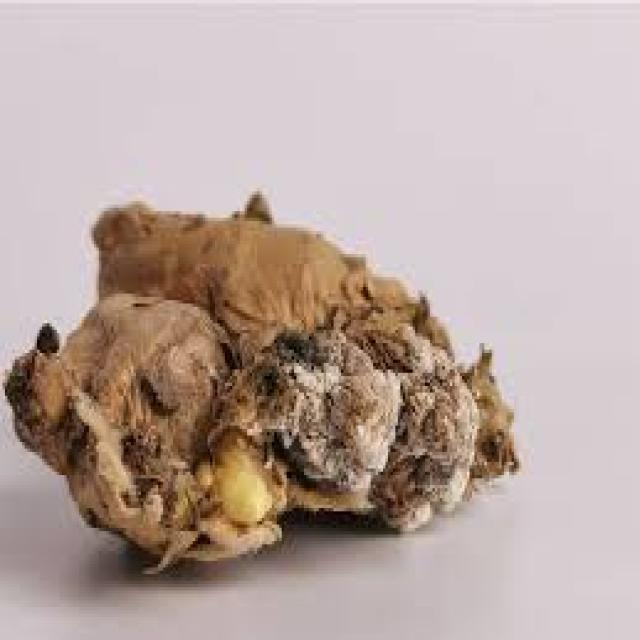ginger: (10, 208, 523, 568)
